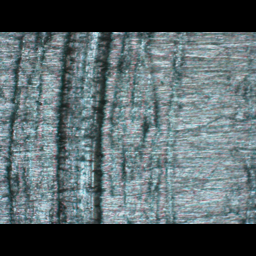d: (53, 32, 112, 222)
